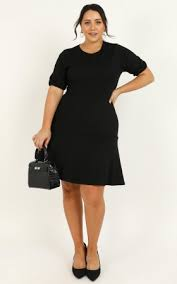black_female: (75, 3, 115, 48)
